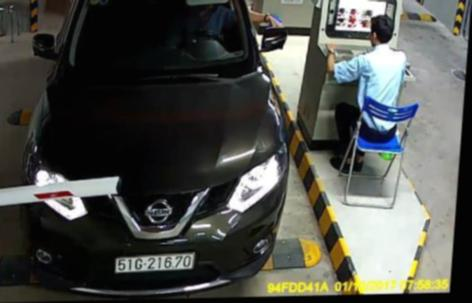License_Plate: (111, 251, 198, 274)
